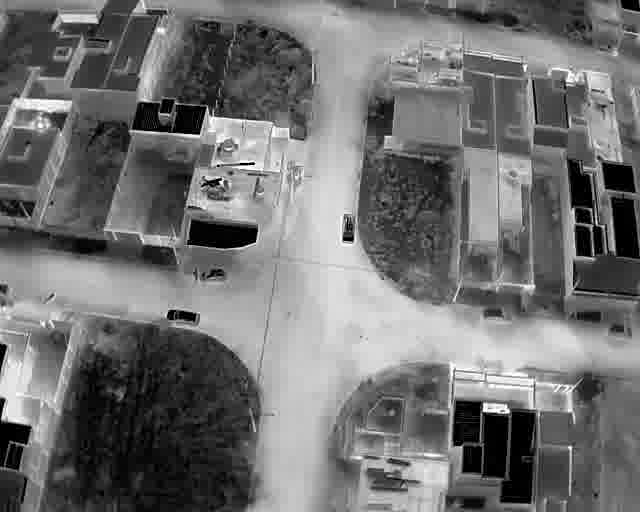car: (165, 308, 201, 327), (480, 307, 512, 324), (341, 213, 356, 244), (200, 267, 230, 282), (607, 325, 632, 339)
motorcycle: (42, 290, 55, 303)
